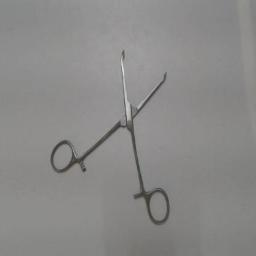Allis Tissue Forceps: (46, 45, 176, 231)
